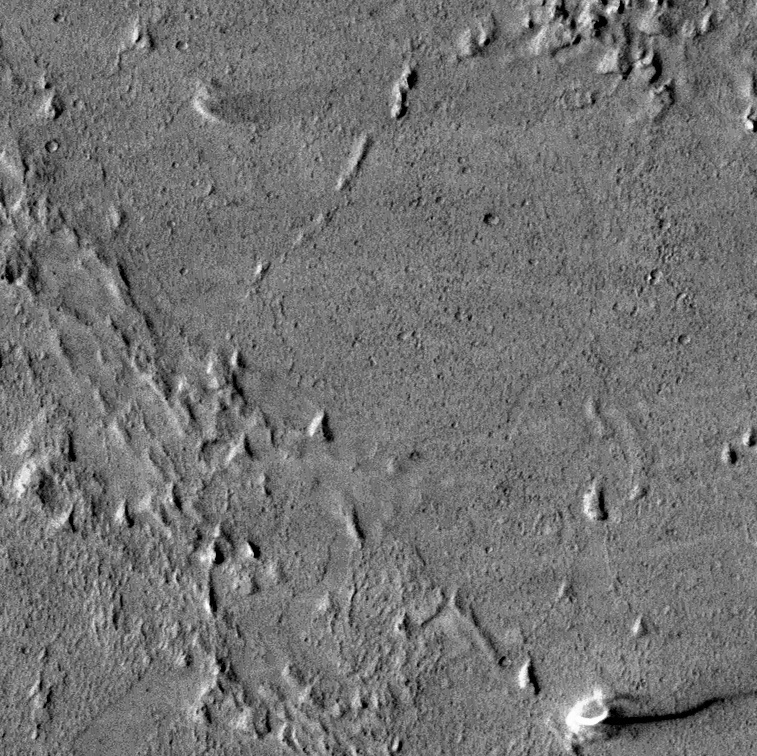dust_devil: (563, 689, 751, 737), (191, 81, 336, 128)
